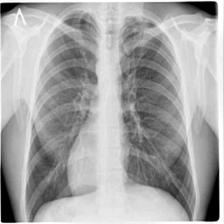tuberculosis: (22, 10, 198, 223)
